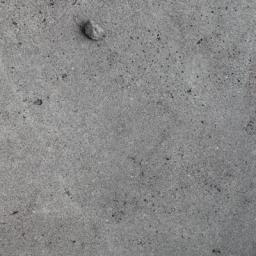FOD: (80, 19, 108, 43)
